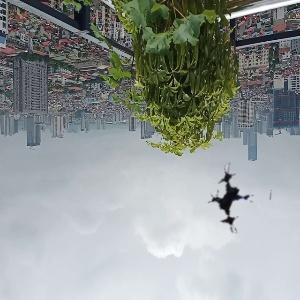drone: (202, 158, 279, 235)
